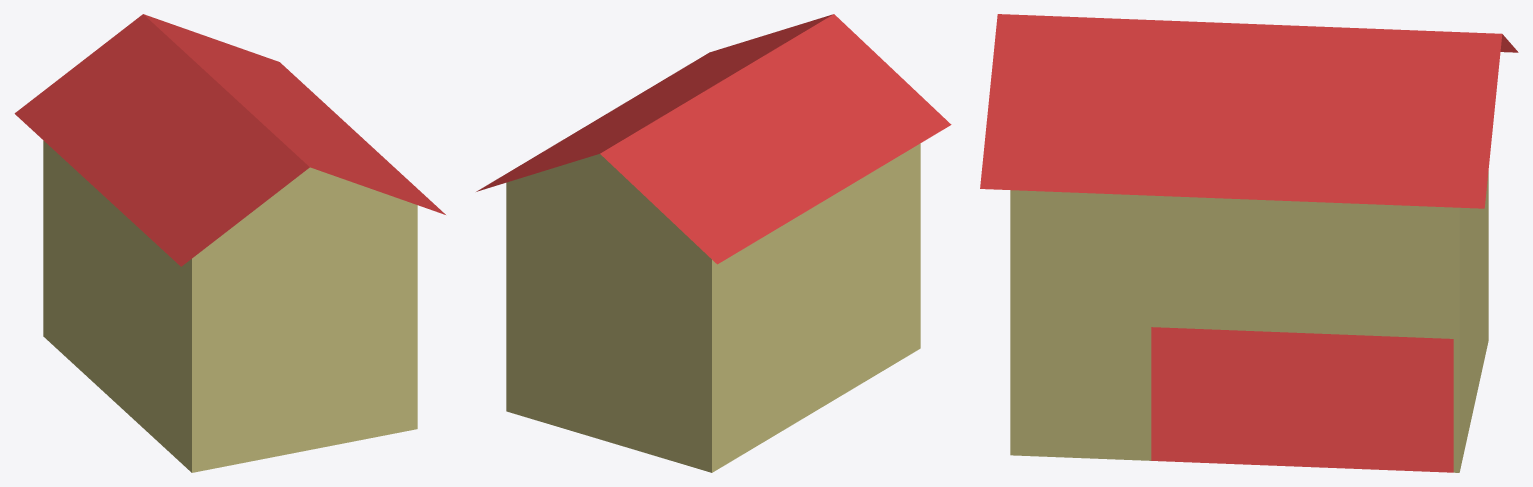
3 renders of one model, left to right at view 1: azimuth 30°, elevation 25°; view 2: azimuth 150°, elevation 25°; view 3: azimuth 270°, elevation 25°, orthographic. The views are drawn at different scales.
Bounding box in the file's own units: 11.23 × 14.55 × 11.07.
